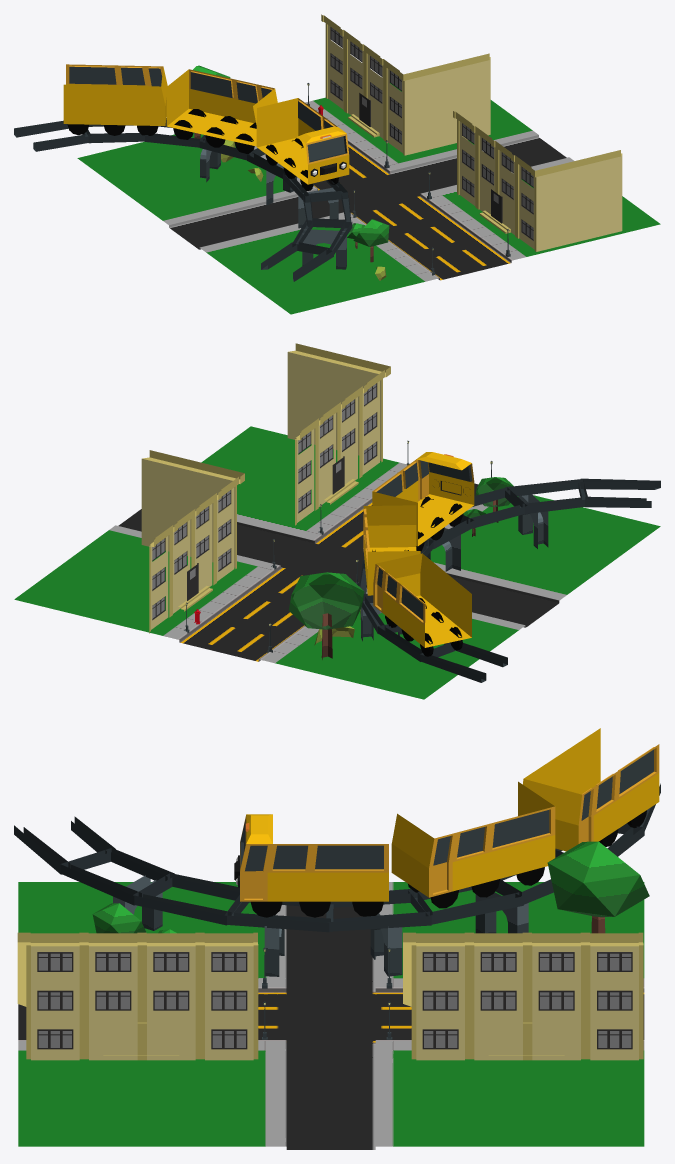
File: tiles.2.2.glb
3 views of the same model, one above another, from view 1: azimuth 30°, elevation 25°; view 2: azimuth 150°, elevation 25°; view 3: azimuth 270°, elevation 25° (orthographic). The views are drawn at different scales.
Visible parts, largest first — view 1: Road, Train, Building.001, Building.002, Tree.002; view 2: Road, Train, Building.002, Building.001, Tree.003, Tree.002; view 3: Road, Train, Building.001, Building.002, Tree.003, Tree.002.
Boxes of the visible parts, <box> form: Road: <box>77,83,660,314</box>; Train: <box>14,64,352,281</box>; Building.001: <box>453,111,622,251</box>; Building.002: <box>321,14,490,155</box>; Tree.002: <box>353,219,389,262</box>; Road: <box>14,426,660,699</box>; Train: <box>359,452,660,682</box>; Building.002: <box>141,450,244,633</box>; Building.001: <box>287,343,390,525</box>; Tree.003: <box>288,572,364,659</box>; Tree.002: <box>475,477,513,522</box>; Road: <box>18,882,644,1149</box>; Train: <box>14,728,660,976</box>; Building.001: <box>17,932,258,1060</box>; Building.002: <box>403,932,643,1060</box>; Tree.003: <box>547,841,649,933</box>; Tree.002: <box>92,903,145,933</box>.
Size of the model in its own units: 46.31 by 10.17 by 41.35.
Materials: 2 (2 with a texture image).
